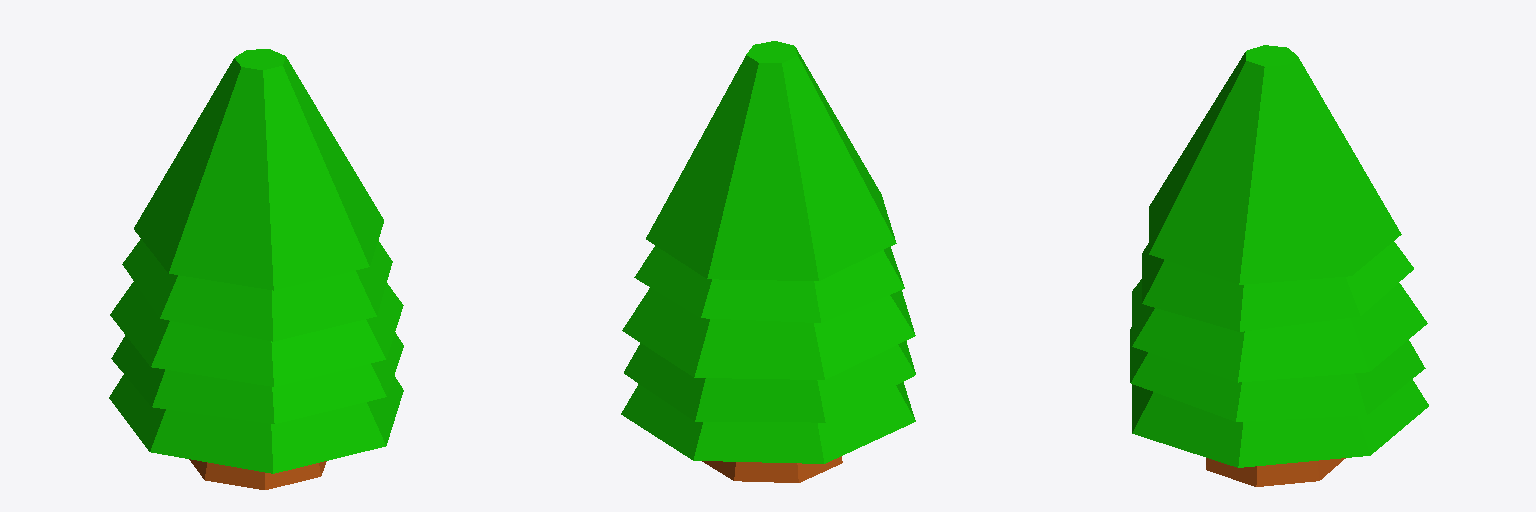
The model's file is ctree3C(F68).obj.
3 renders of one model, left to right at view 1: azimuth 30°, elevation 25°; view 2: azimuth 150°, elevation 25°; view 3: azimuth 270°, elevation 25°, orthographic.
Visible parts, largest first — view 1: Cylinder.147, Cylinder.145, Cylinder.143, Cylinder.146, Cylinder.144, Cylinder.142; view 2: Cylinder.147, Cylinder.145, Cylinder.144, Cylinder.143, Cylinder.146, Cylinder.142; view 3: Cylinder.147, Cylinder.145, Cylinder.143, Cylinder.146, Cylinder.144, Cylinder.142.
Boxes of the visible parts, <box> form: Cylinder.147: <box>134,49,383,290</box>; Cylinder.145: <box>110,282,403,386</box>; Cylinder.143: <box>109,375,403,473</box>; Cylinder.146: <box>122,239,392,341</box>; Cylinder.144: <box>111,332,403,423</box>; Cylinder.142: <box>189,459,326,489</box>; Cylinder.147: <box>646,41,896,280</box>; Cylinder.145: <box>622,288,915,379</box>; Cylinder.144: <box>624,341,915,422</box>; Cylinder.143: <box>621,382,915,463</box>; Cylinder.146: <box>634,246,904,322</box>; Cylinder.142: <box>702,456,842,482</box>; Cylinder.147: <box>1149,45,1401,284</box>; Cylinder.145: <box>1132,279,1427,382</box>; Cylinder.143: <box>1132,379,1428,467</box>; Cylinder.146: <box>1142,241,1413,331</box>; Cylinder.144: <box>1130,327,1425,421</box>; Cylinder.142: <box>1206,458,1345,486</box>.
Size of the model in its own units: 1.16 by 1.75 by 1.19.